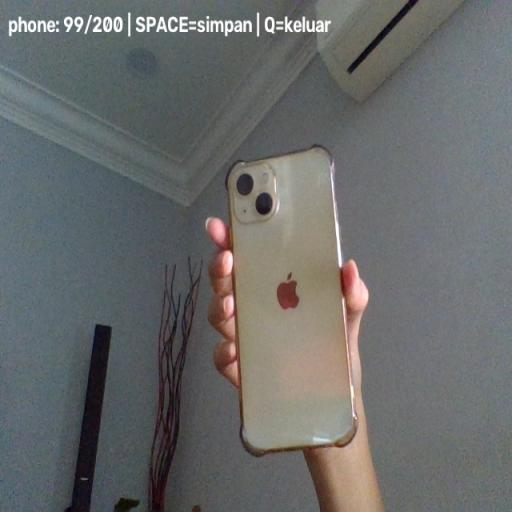Phone: (224, 144, 358, 458)
